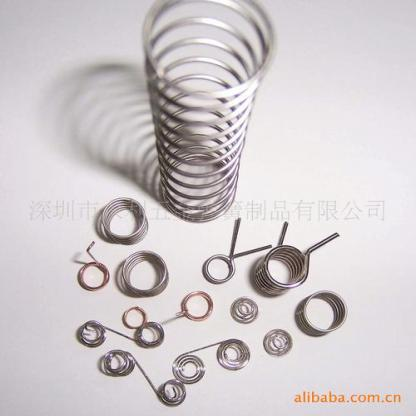FOD: (139, 0, 281, 225), (248, 218, 341, 298), (198, 214, 271, 284), (171, 335, 252, 384), (116, 247, 170, 298), (292, 288, 349, 336), (96, 196, 149, 246)
